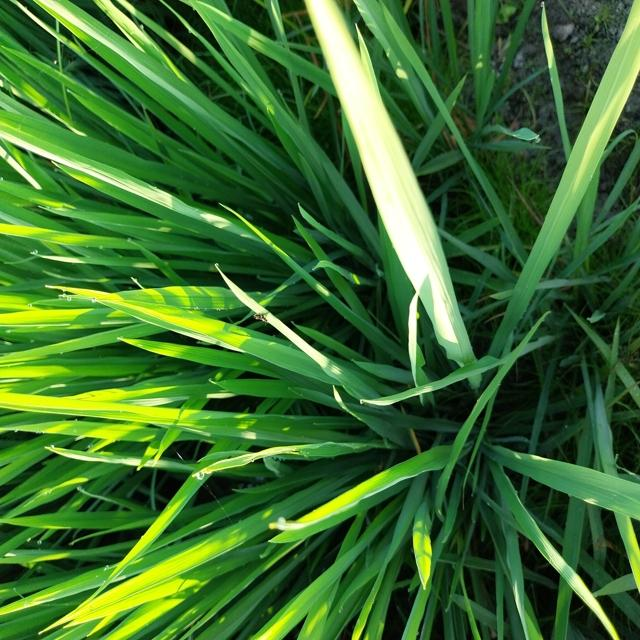healthy: (247, 309, 273, 330)
